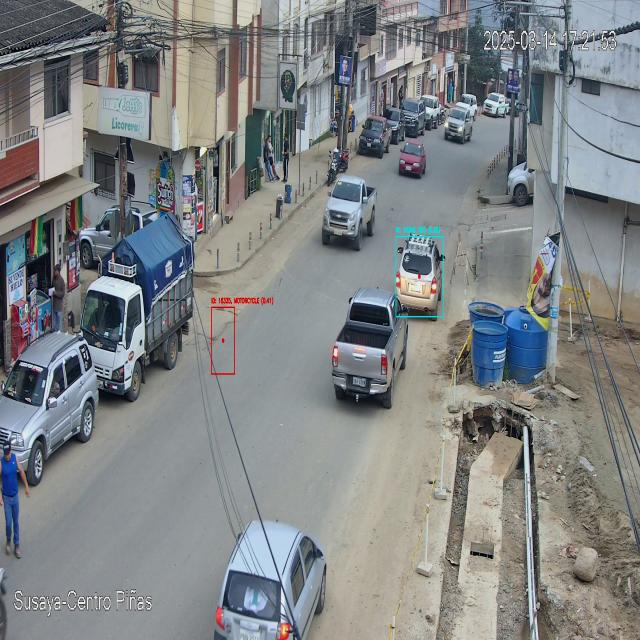CMT: (332, 287, 408, 409), (321, 175, 378, 252)
SUV: (395, 232, 439, 316)
TRUCK: (82, 215, 195, 397)
